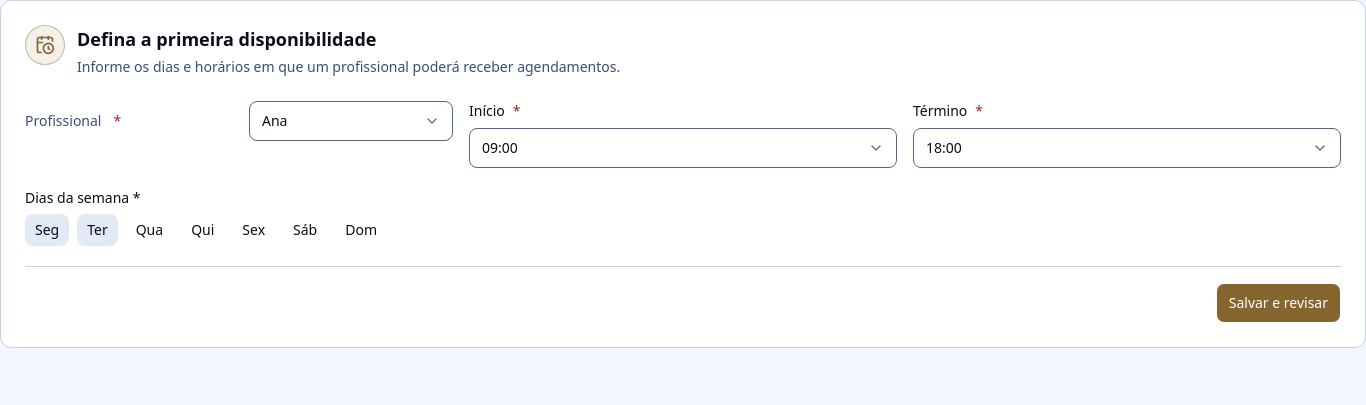
Test case: onboarding availability step › keeps the form recoverable when persistence fails
The image size is (1366, 405).
Step 1. Click the button "Salvar e revisar" → (1278, 303), box x1=1216 y1=283 x2=1341 y2=323
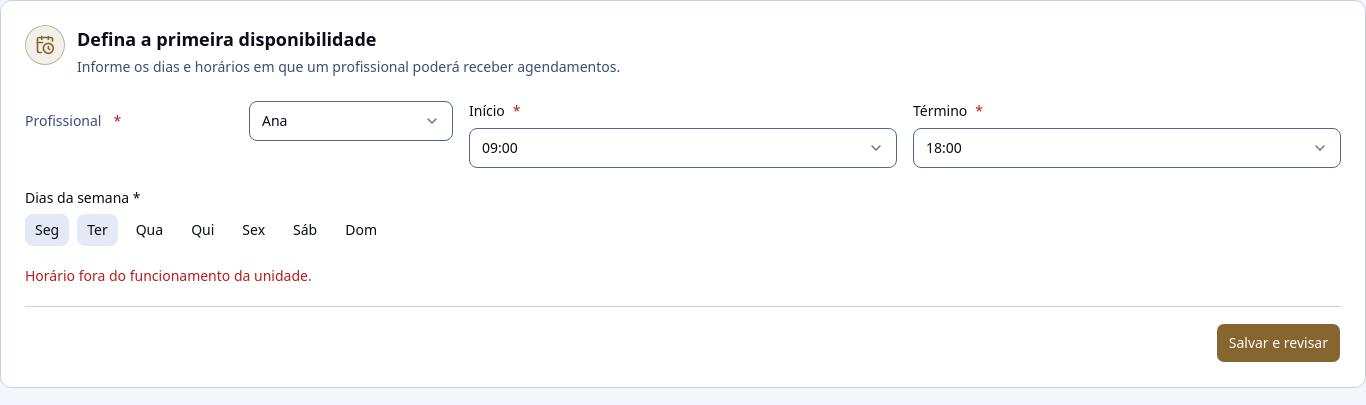
Expected: the button "Salvar e revisar" is enabled, x1=1216 y1=323 x2=1341 y2=363
Expected: the message reads "Horário fora do funcionamento da unidade.", x1=25 y1=266 x2=312 y2=285
